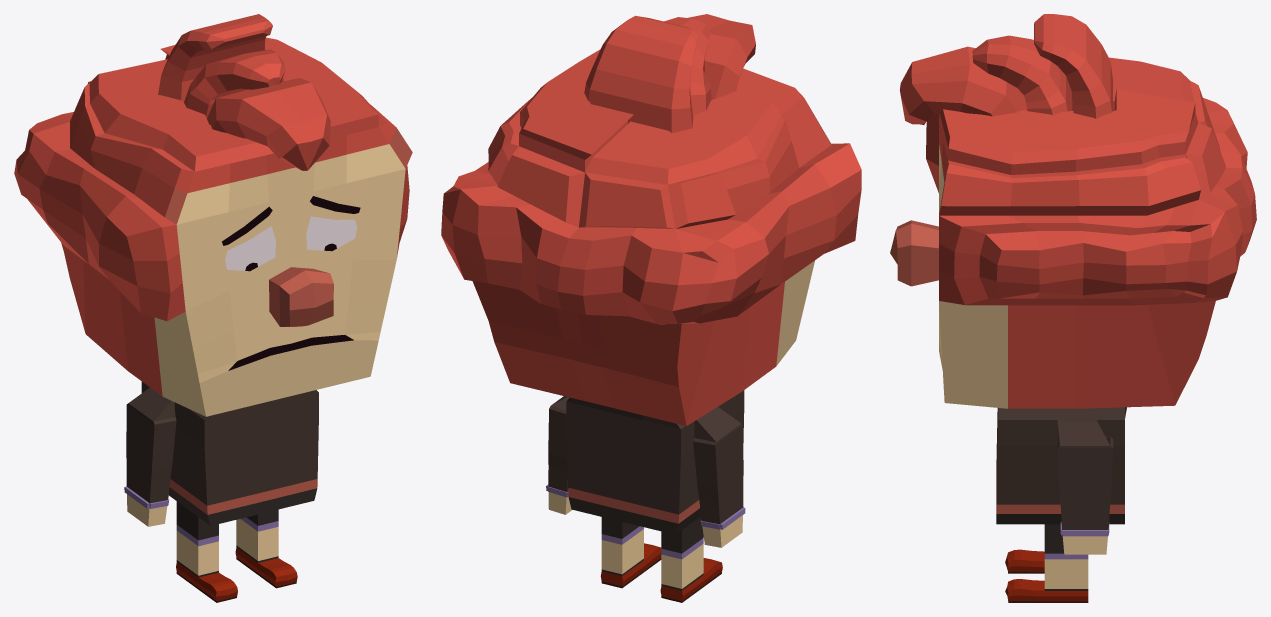
The model's file is HijoPayaso.fbx.
3 renders of one model, left to right at view 1: azimuth 30°, elevation 25°; view 2: azimuth 150°, elevation 25°; view 3: azimuth 270°, elevation 25°, orthographic.
Visible parts, largest first — view 1: Character; view 2: Character; view 3: Character.
Boxes of the visible parts, left/top/right/bottom form: Character: left=14, top=14, right=412, bottom=602; Character: left=441, top=14, right=861, bottom=602; Character: left=890, top=14, right=1256, bottom=602.
Size of the model in its own units: 119 by 206 by 124.
